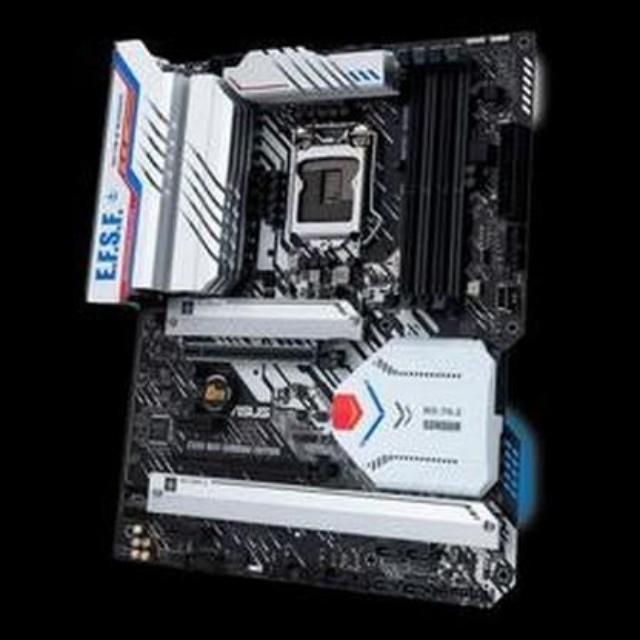Mainboard: (85, 21, 552, 612)
